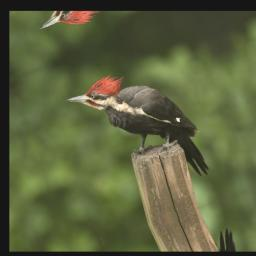Woodpecker: (58, 46, 223, 213)
